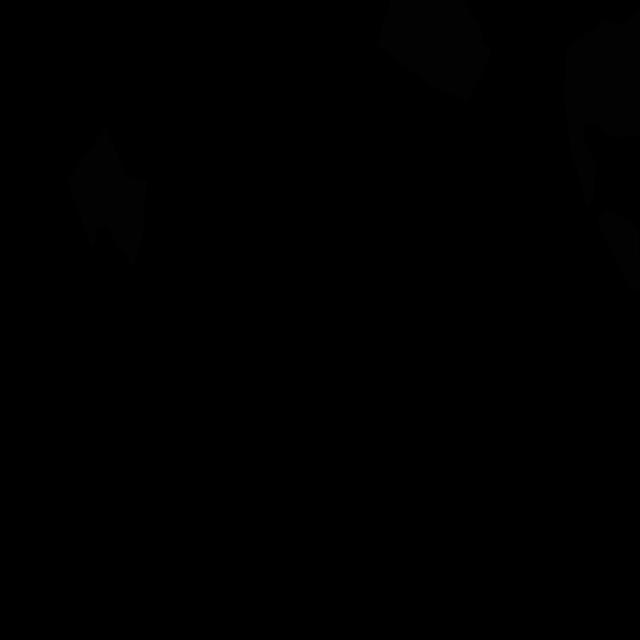cardboard: (564, 9, 640, 208), (376, 0, 492, 101), (67, 128, 148, 269), (596, 209, 640, 291)
